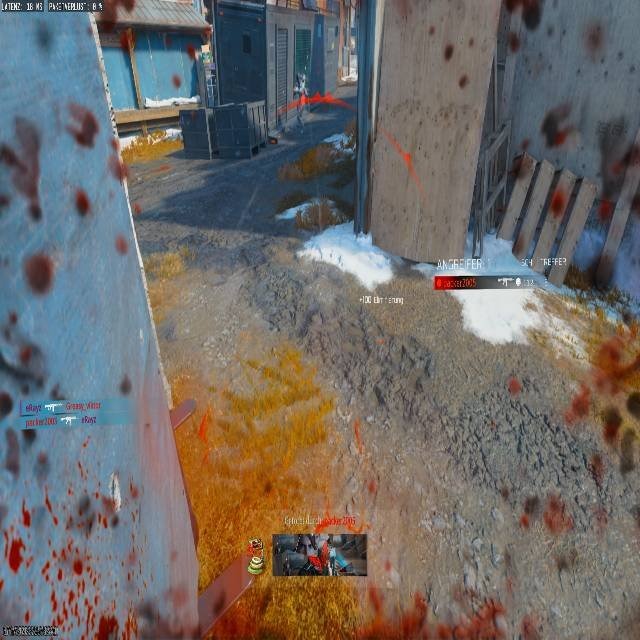head: (540, 103, 577, 149)
